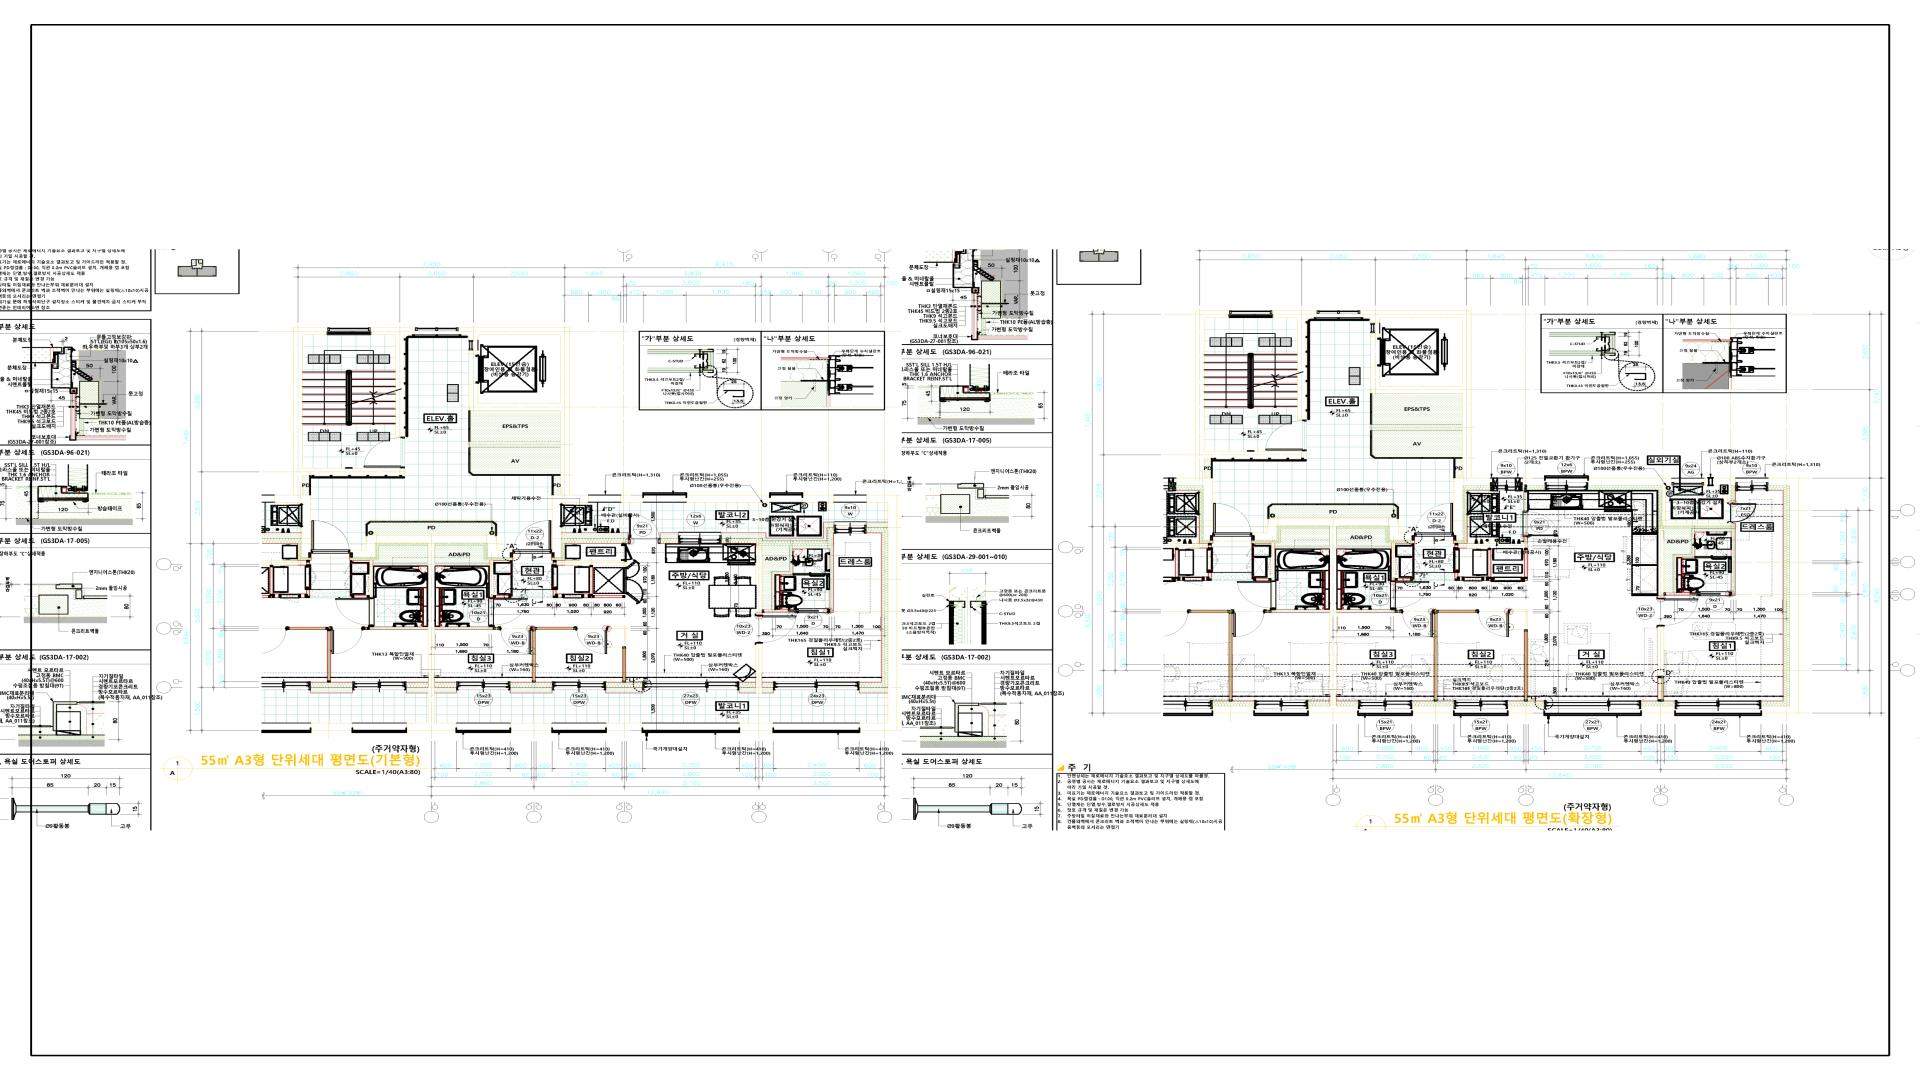door: (513, 520, 553, 558), (1415, 502, 1455, 537), (1265, 419, 1307, 451), (364, 436, 405, 468), (754, 615, 796, 644), (1390, 582, 1429, 609), (1660, 597, 1698, 625), (488, 599, 527, 625), (1399, 609, 1435, 637), (629, 514, 661, 545), (575, 626, 608, 655), (1477, 609, 1511, 637), (497, 626, 531, 654), (1523, 510, 1559, 537), (1727, 502, 1756, 524), (1706, 543, 1731, 558), (762, 608, 831, 613), (1491, 576, 1524, 587), (804, 560, 827, 575), (1664, 592, 1731, 596), (1461, 576, 1485, 585), (621, 543, 633, 562), (562, 593, 584, 603)
wall: (803, 495, 897, 731), (293, 327, 405, 495), (1195, 311, 1307, 479), (1360, 311, 1472, 479), (459, 327, 570, 495), (431, 535, 513, 731), (1333, 518, 1414, 713), (1762, 479, 1799, 713), (1589, 477, 1731, 526), (553, 495, 642, 558), (1273, 311, 1317, 419), (372, 327, 415, 436), (1673, 529, 1735, 596), (771, 546, 833, 612), (1433, 611, 1477, 702), (531, 626, 575, 682), (1455, 479, 1490, 541), (721, 522, 833, 541), (584, 566, 625, 599), (1704, 479, 1735, 502), (687, 495, 770, 502), (1371, 425, 1462, 430), (756, 547, 762, 615), (553, 560, 625, 566), (1458, 543, 1528, 549), (560, 533, 628, 538), (1659, 530, 1664, 597), (1658, 626, 1664, 676), (510, 723, 551, 731), (756, 644, 762, 692), (1414, 705, 1453, 713), (1524, 629, 1528, 702), (607, 723, 642, 731), (1509, 705, 1543, 713), (740, 723, 773, 731), (1484, 550, 1491, 582), (1336, 609, 1395, 613), (510, 687, 553, 692), (1642, 707, 1675, 713), (607, 687, 642, 692), (860, 687, 887, 694), (1523, 477, 1544, 485), (435, 628, 493, 630), (622, 646, 626, 683), (489, 560, 493, 597), (1391, 543, 1395, 580), (1337, 546, 1391, 549), (1524, 550, 1528, 582), (435, 687, 456, 692), (866, 522, 887, 527), (1658, 676, 1662, 702), (661, 533, 678, 538), (553, 589, 562, 599), (740, 687, 756, 692), (493, 595, 512, 599), (1395, 578, 1411, 582), (762, 687, 773, 692), (1524, 491, 1527, 510), (1455, 574, 1461, 582), (469, 351, 479, 355), (1695, 556, 1706, 558), (793, 574, 804, 575), (1455, 543, 1458, 547)
window: (1543, 700, 1642, 716), (1675, 700, 1762, 716), (642, 723, 740, 733), (773, 723, 861, 733), (642, 682, 740, 691), (1357, 700, 1414, 716), (1453, 700, 1509, 716), (773, 682, 860, 691), (1544, 475, 1589, 491), (455, 723, 512, 733), (551, 723, 607, 733), (678, 531, 721, 545), (456, 682, 510, 691), (553, 682, 607, 691), (1490, 477, 1523, 492), (642, 492, 687, 502), (833, 521, 866, 534), (1735, 477, 1768, 491), (1228, 310, 1274, 318), (327, 327, 372, 335), (415, 327, 459, 335), (770, 492, 802, 502), (1672, 477, 1704, 485), (1316, 310, 1361, 314), (468, 340, 479, 351)
